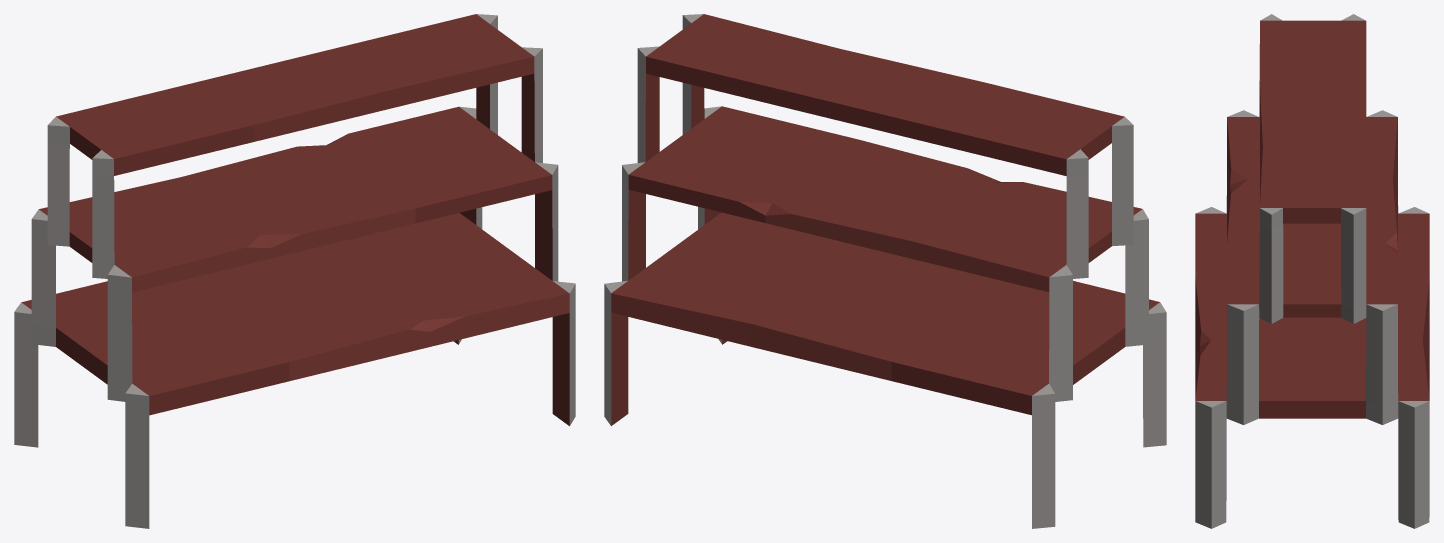
The model's file is SM_Prop_Shelves_03.glb.
3 views of the same model, side by side, from view 1: azimuth 30°, elevation 25°; view 2: azimuth 150°, elevation 25°; view 3: azimuth 270°, elevation 25° (orthographic). The views are drawn at different scales.
Parts seen in each view (by area): view 1: SM_Prop_Shelves_03; view 2: SM_Prop_Shelves_03; view 3: SM_Prop_Shelves_03.
Boxes of the visible parts, x1=… form: SM_Prop_Shelves_03: x1=14, y1=14, x2=575, y2=528; SM_Prop_Shelves_03: x1=604, y1=14, x2=1166, y2=528; SM_Prop_Shelves_03: x1=1195, y1=14, x2=1429, y2=528.
Bounding box in the file's own units: 2.39 × 1.75 × 1.18.
1 material, 1 textured.
